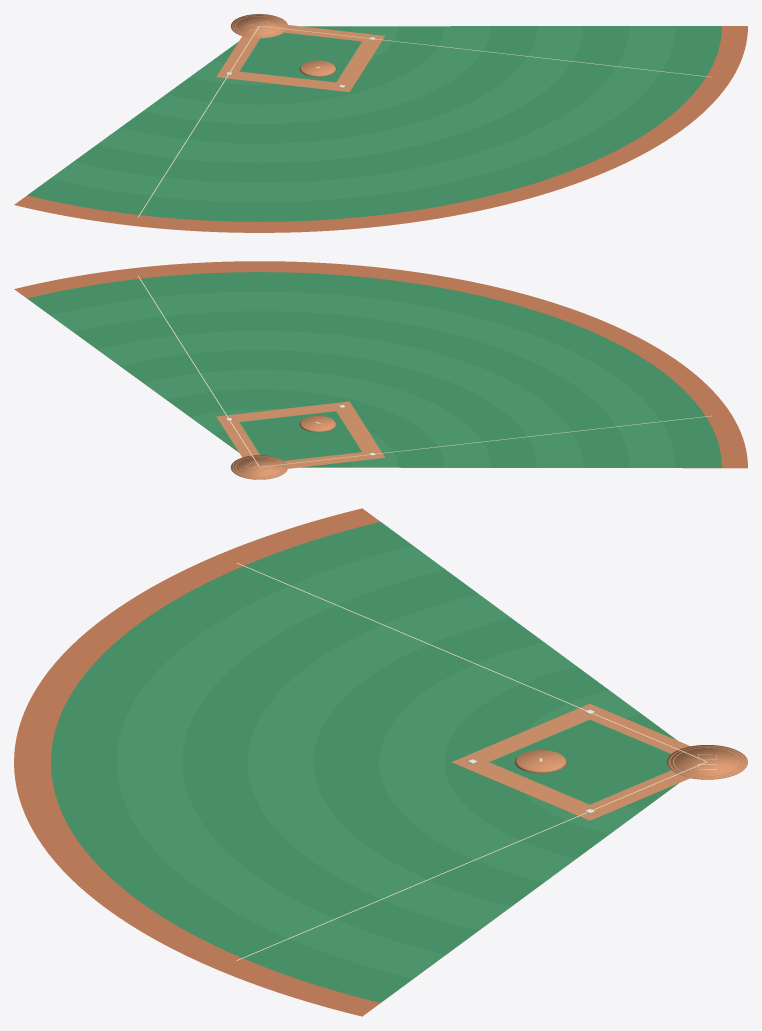
File: field.glb
3 renders of one model, top to bottom at view 1: azimuth 30°, elevation 25°; view 2: azimuth 150°, elevation 25°; view 3: azimuth 270°, elevation 25°, orthographic. The views are drawn at different scales.
Visible parts, largest first — view 1: field_grass, field_grass_light, field_clay, field_clay_light, field_cream, field_clay_soft; view 2: field_grass, field_grass_light, field_clay, field_clay_light, field_cream, field_clay_soft; view 3: field_grass, field_grass_light, field_clay, field_clay_light, field_cream.
Boxes of the visible parts, box(x1,y1,x2,y2) form: field_grass: box(27, 26, 721, 221); field_grass_light: box(50, 26, 675, 202); field_clay: box(14, 26, 747, 232); field_clay_light: box(216, 14, 384, 92); field_cream: box(138, 21, 712, 217); field_clay_soft: box(222, 14, 379, 89); field_grass: box(27, 272, 721, 467); field_grass_light: box(50, 291, 675, 467); field_clay: box(14, 261, 747, 468); field_clay_light: box(216, 401, 385, 479); field_cream: box(138, 275, 711, 472); field_clay_soft: box(222, 404, 379, 478); field_grass: box(51, 521, 674, 1002); field_grass_light: box(116, 546, 678, 978); field_clay: box(14, 508, 667, 1016); field_clay_light: box(451, 703, 747, 820); field_cream: box(236, 563, 716, 960).
Size of what is drawn, in the model's own units: 130 by 0.329 by 79.4.
